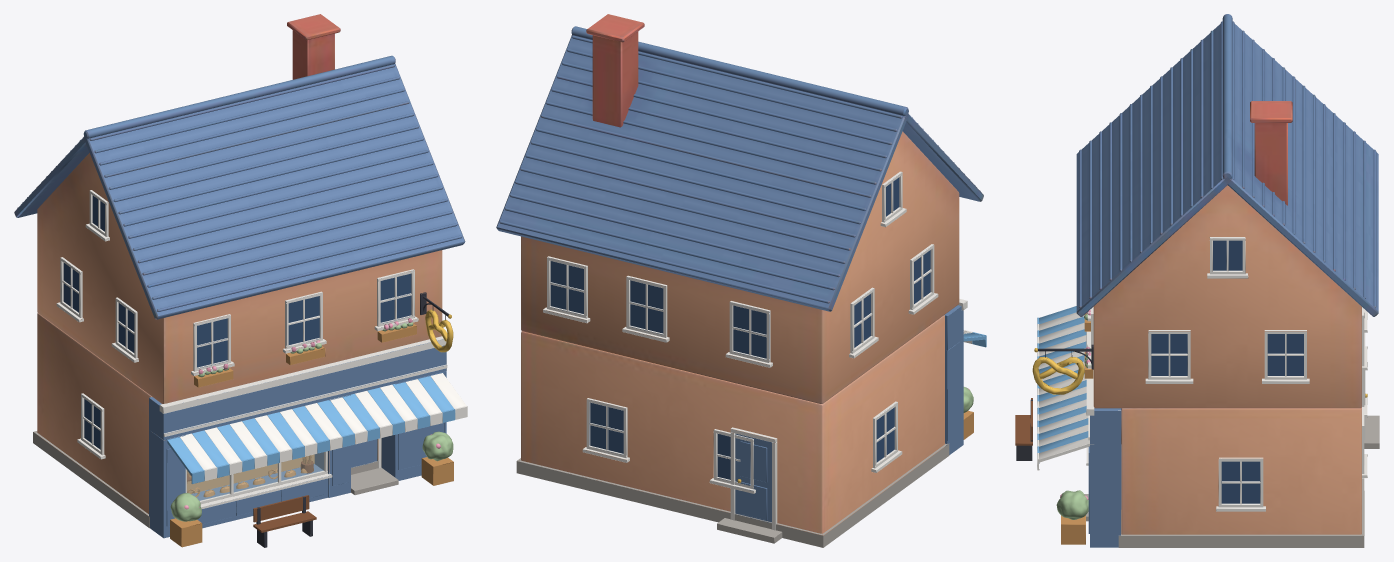
Rendered from bakery-light.glb.
The picture shows the model from 3 angles, left to right: view 1: azimuth 30°, elevation 25°; view 2: azimuth 150°, elevation 25°; view 3: azimuth 270°, elevation 25°; orthographic projection. The views are drawn at different scales.
Parts seen in each view (by area): view 1: bakery_body, bakery_details, bakery_shop_glass, bakery_plants; view 2: bakery_body, bakery_details; view 3: bakery_body, bakery_details, bakery_plants.
Part boxes in pixels (box(x1,y1,x2,y2)): bakery_body: box(14, 14, 465, 516); bakery_details: box(33, 190, 467, 547); bakery_shop_glass: box(187, 452, 324, 500); bakery_plants: box(170, 431, 453, 521); bakery_body: box(496, 14, 983, 535); bakery_details: box(516, 171, 986, 547); bakery_body: box(1076, 14, 1378, 534); bakery_details: box(1015, 237, 1379, 547); bakery_plants: box(1056, 490, 1088, 519).
Bounding box in the file's own units: 8.4 × 10.22 × 8.15.
Materials: 17 (1 with a texture image).
